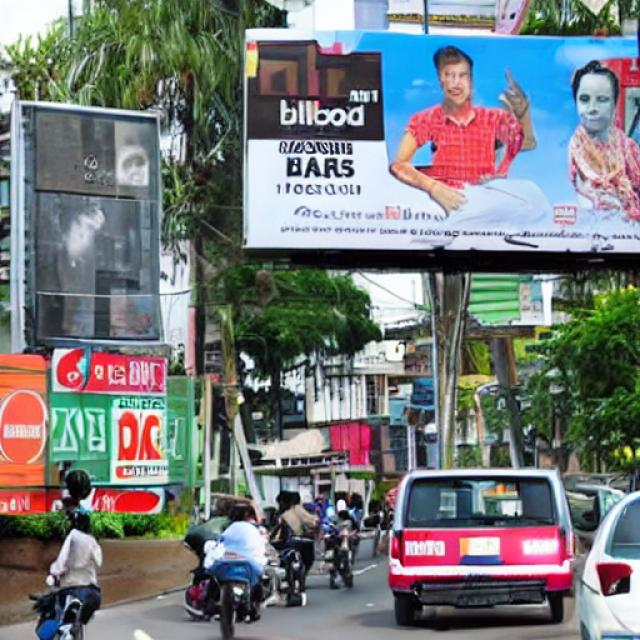Billboard: (240, 24, 640, 253)
